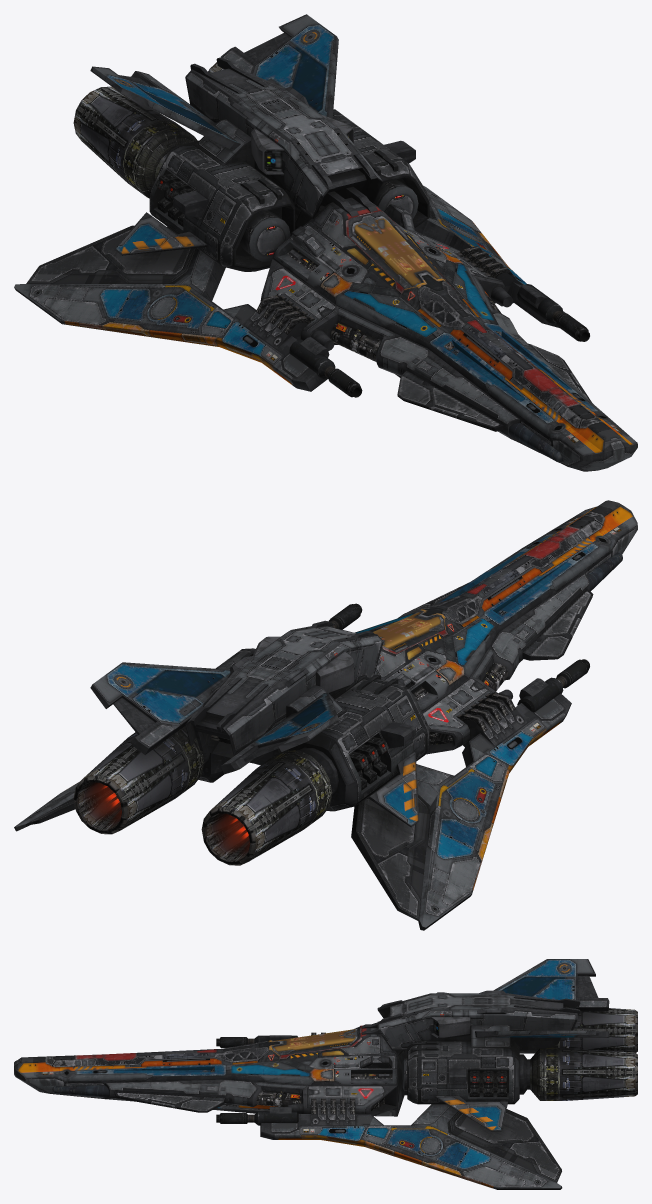
File: SF_Light_Fighter-X6.obj
The picture shows the model from 3 angles, top to bottom: view 1: azimuth 30°, elevation 25°; view 2: azimuth 150°, elevation 25°; view 3: azimuth 270°, elevation 25°; orthographic projection. The views are drawn at different scales.
Parts seen in each view (by area): view 1: SF_Light_Fighter_X6; view 2: SF_Light_Fighter_X6; view 3: SF_Light_Fighter_X6.
Boxes of the visible parts, x1,y1,x2,y2 form: SF_Light_Fighter_X6: (14, 14, 637, 471); SF_Light_Fighter_X6: (14, 500, 637, 930); SF_Light_Fighter_X6: (14, 959, 637, 1189).
Size of the model in its own units: 81.29 by 34.95 by 156.
Materials: 1 (1 with a texture image).
